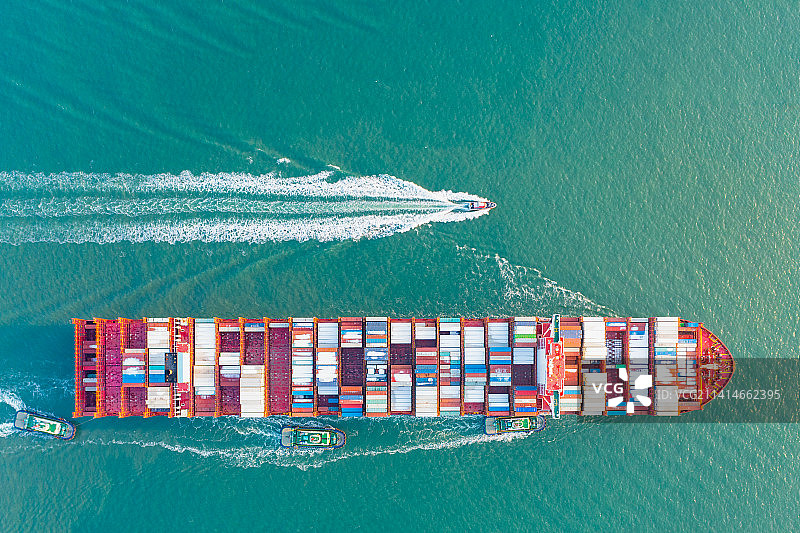ship: (64, 305, 755, 452), (425, 176, 516, 236)
